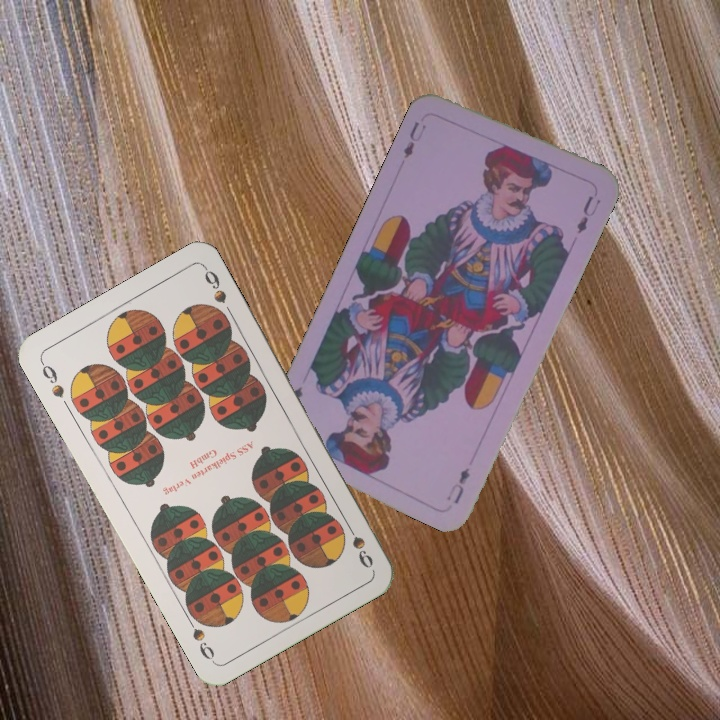EU: (442, 463, 473, 506), (399, 117, 429, 161)
S9: (341, 516, 376, 571), (36, 357, 67, 401)
